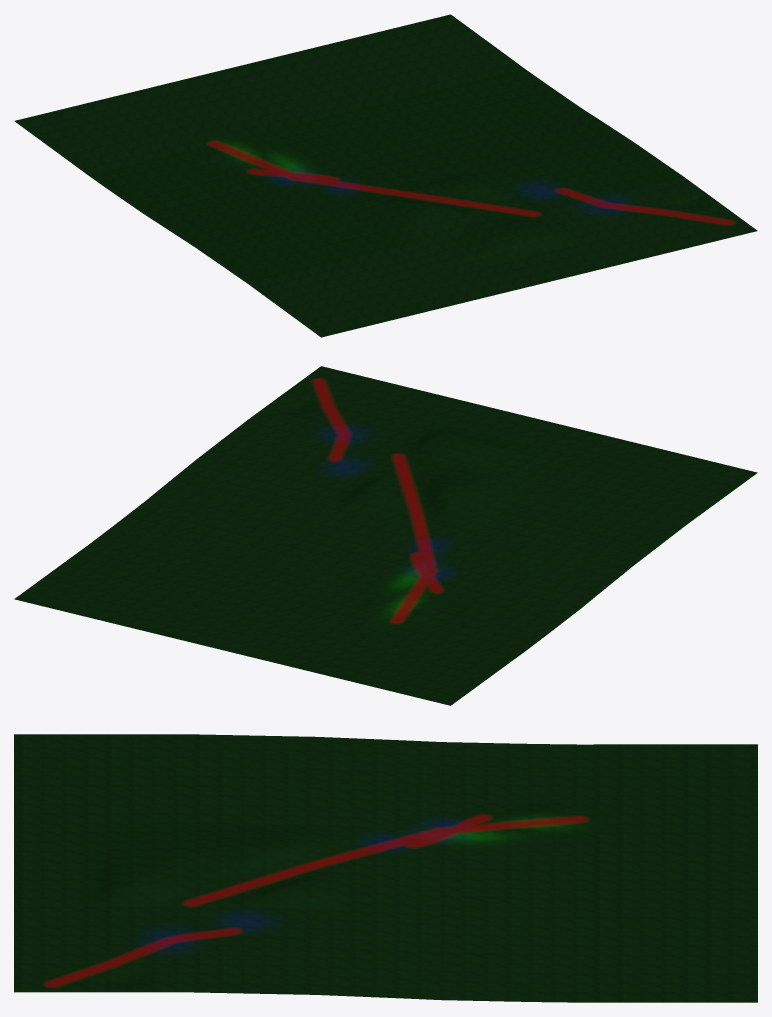
Rendered from prologue-ground-f00-f16-v1.glb.
The picture shows the model from 3 angles, top to bottom: view 1: azimuth 30°, elevation 25°; view 2: azimuth 150°, elevation 25°; view 3: azimuth 270°, elevation 25°; orthographic projection. The views are drawn at different scales.
Parts seen in each view (by area): view 1: W01_ForestGround_Terrain; view 2: W01_ForestGround_Terrain; view 3: W01_ForestGround_Terrain.
Part boxes in pixels (x1,y1,x2,y2): W01_ForestGround_Terrain: [14, 14, 757, 337]; W01_ForestGround_Terrain: [14, 366, 757, 705]; W01_ForestGround_Terrain: [14, 734, 757, 1002].
Bounding box in the file's own units: 220 × 7.16 × 268.
Materials: 1 (1 with a texture image).
